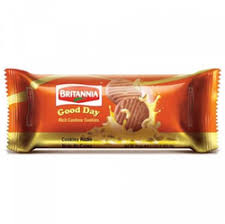gooday-small: (7, 72, 215, 151)
